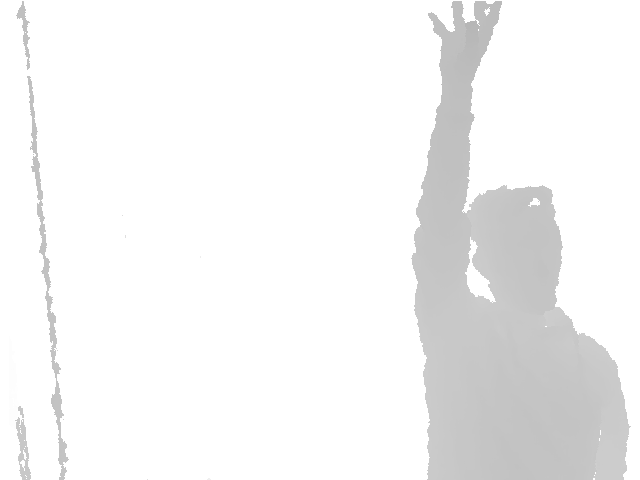hand: (428, 1, 503, 97)
head: (467, 185, 563, 310)
person: (412, 1, 631, 480)
